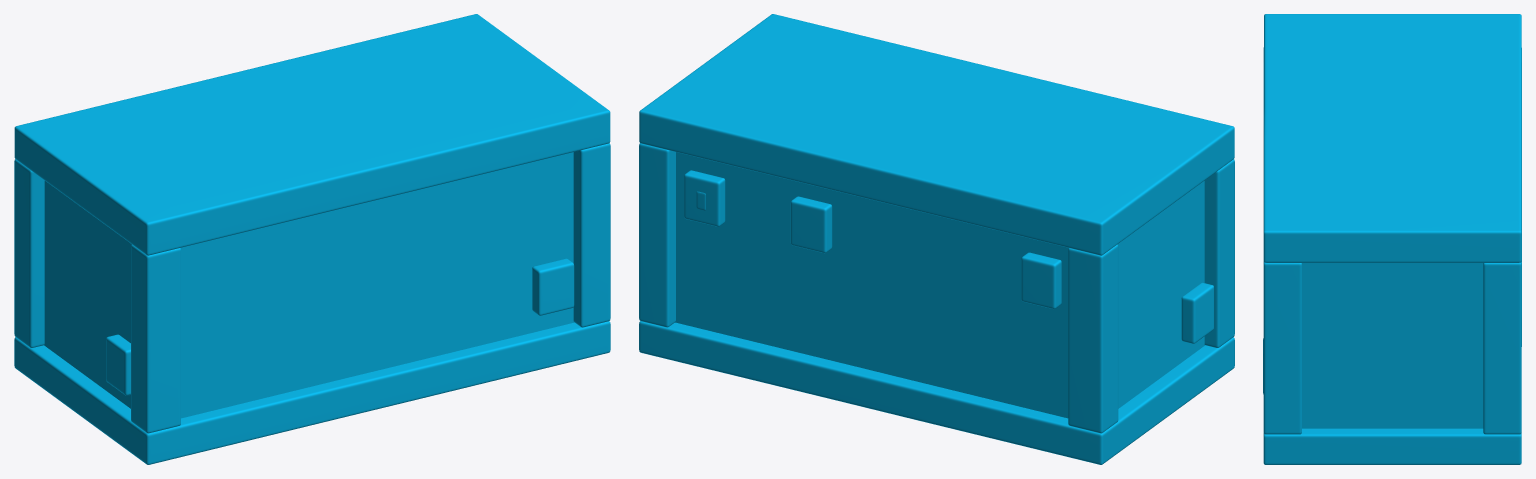
Rendered from SM_Clay_body_07.fbx.
3 renders of one model, left to right at view 1: azimuth 30°, elevation 25°; view 2: azimuth 150°, elevation 25°; view 3: azimuth 270°, elevation 25°, orthographic. The views are drawn at different scales.
Visible parts, largest first — view 1: SM_Clay_Body_07; view 2: SM_Clay_Body_07; view 3: SM_Clay_Body_07.
Part boxes in pixels (x1,y1,x2,y2): SM_Clay_Body_07: (14, 14, 610, 464); SM_Clay_Body_07: (639, 14, 1234, 464); SM_Clay_Body_07: (1263, 14, 1521, 464).
Size of the model in its own units: 5.01 by 2.5 by 2.51.
